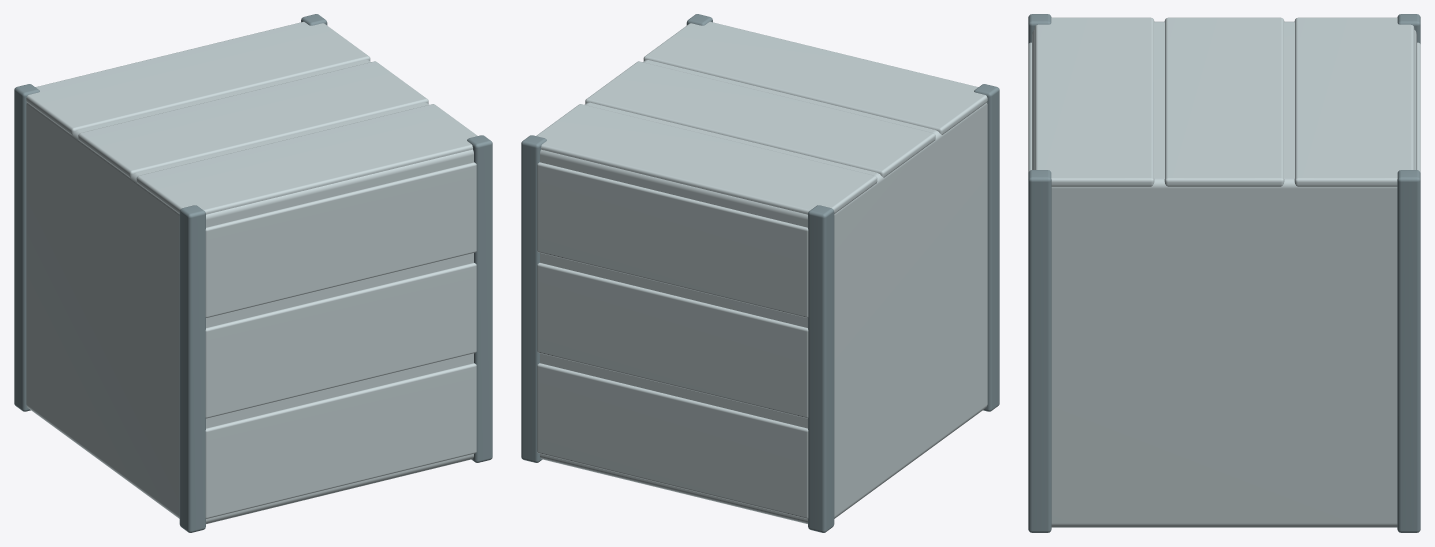
File: crate.glb
The picture shows the model from 3 angles, left to right: view 1: azimuth 30°, elevation 25°; view 2: azimuth 150°, elevation 25°; view 3: azimuth 270°, elevation 25°; orthographic projection. The views are drawn at different scales.
Parts seen in each view (by area): view 1: core, front_slat_1_0, front_slat_1_2, front_slat_1_1, lid_slat_2, lid_slat_1, lid_slat_0, corner_post_1_-0.284, corner_post_1_0.284, corner_post_-1_-0.284; view 2: core, front_slat_-1_0, front_slat_-1_2, front_slat_-1_1, lid_slat_0, lid_slat_1, lid_slat_2, corner_post_-1_-0.284, corner_post_-1_0.284, corner_post_1_-0.284; view 3: core, lid_slat_1, lid_slat_0, lid_slat_2, corner_post_1_0.284, corner_post_-1_0.284, front_slat_1_2, front_slat_-1_2.
Boxes of the visible parts, box(x1,y1,x2,y2) form: core: box(26, 60, 473, 523); front_slat_1_0: box(205, 363, 476, 518); front_slat_1_2: box(205, 162, 476, 317); front_slat_1_1: box(205, 263, 476, 418); lid_slat_2: box(136, 104, 477, 214); lid_slat_1: box(78, 61, 428, 177); lid_slat_0: box(26, 21, 370, 134); corner_post_1_-0.284: box(179, 205, 205, 532); corner_post_1_0.284: box(467, 135, 492, 462); corner_post_-1_-0.284: box(14, 84, 39, 411); core: box(540, 60, 987, 523); front_slat_-1_0: box(537, 363, 808, 518); front_slat_-1_2: box(537, 162, 808, 317); front_slat_-1_1: box(537, 263, 808, 418); lid_slat_0: box(536, 104, 877, 214); lid_slat_1: box(585, 61, 935, 177); lid_slat_2: box(643, 21, 987, 134); corner_post_-1_-0.284: box(808, 205, 834, 532); corner_post_-1_0.284: box(521, 135, 546, 462); corner_post_1_-0.284: box(974, 84, 999, 411); core: box(1032, 21, 1416, 527); lid_slat_1: box(1164, 17, 1284, 186); lid_slat_0: box(1294, 17, 1414, 186); lid_slat_2: box(1034, 17, 1154, 186); corner_post_1_0.284: box(1028, 170, 1051, 532); corner_post_-1_0.284: box(1397, 170, 1420, 532); front_slat_1_2: box(1028, 42, 1031, 172); front_slat_-1_2: box(1417, 42, 1420, 172).
Size of the model in its own units: 0.604 by 0.604 by 0.604.
